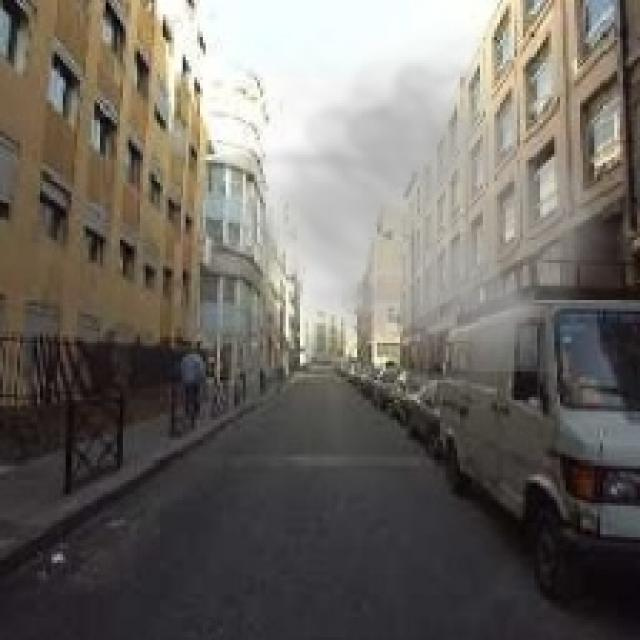Smoke: (220, 19, 634, 372)
